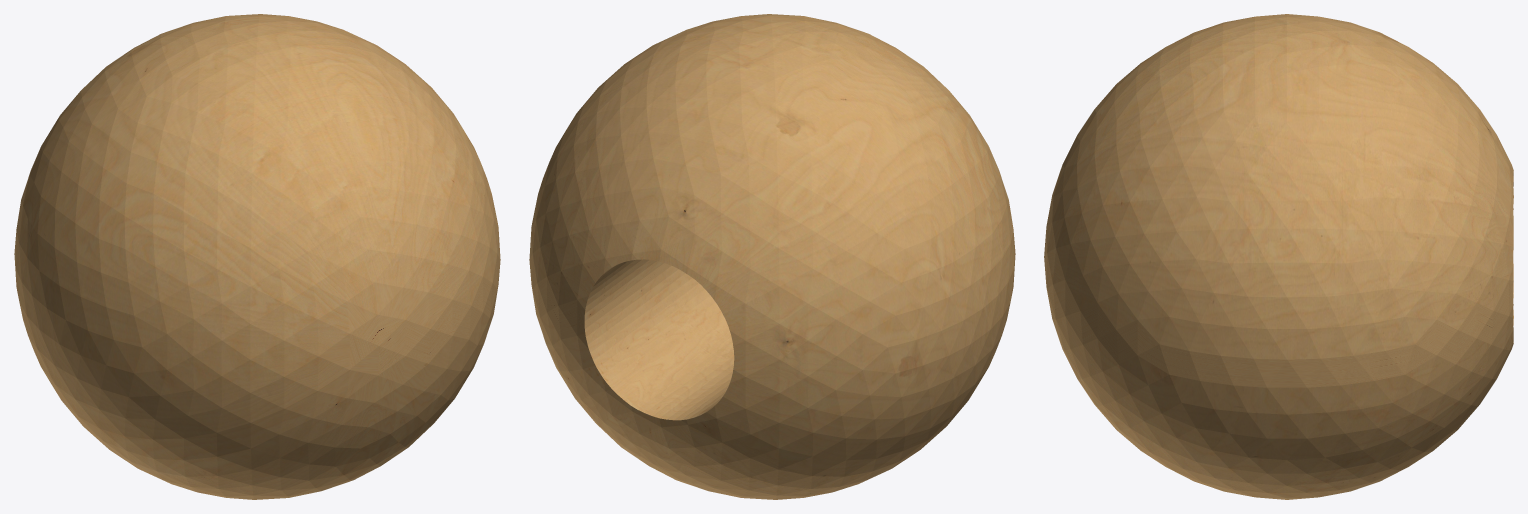
File: ball.glb
3 views of the same model, side by side, from view 1: azimuth 30°, elevation 25°; view 2: azimuth 150°, elevation 25°; view 3: azimuth 270°, elevation 25° (orthographic).
Visible parts, largest first — view 1: world; view 2: world; view 3: world.
Part boxes in pixels (bbox=[...]): world: bbox=[14, 14, 500, 499]; world: bbox=[529, 14, 1015, 499]; world: bbox=[1044, 14, 1513, 499].
Bounding box in the file's own units: 0.045 × 0.045 × 0.0435.
1 material, 1 textured.
